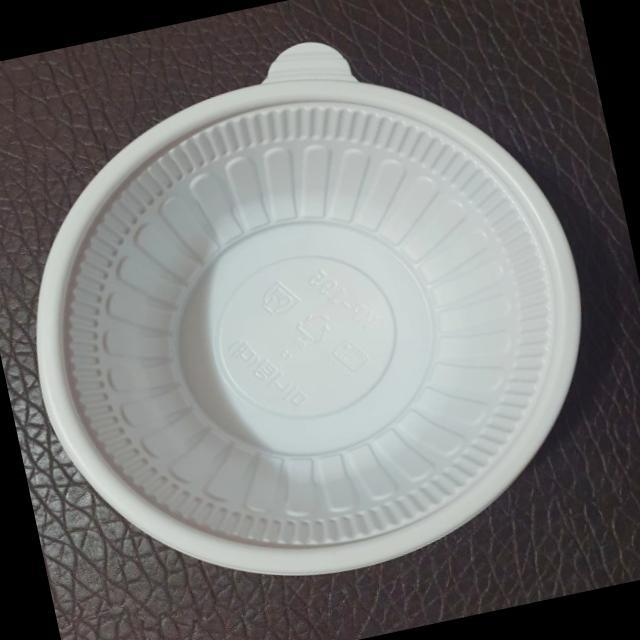bottle: (1, 28, 640, 590)
